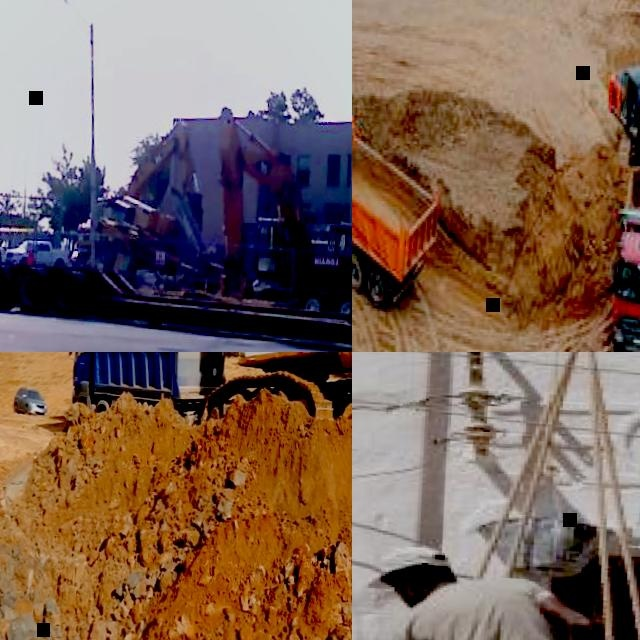Hardhat: (376, 541, 460, 585)
NO-Mask: (396, 581, 424, 607)
NO-Safety Vest: (429, 575, 594, 640)
Person: (352, 538, 640, 640)
Safety Cone: (25, 245, 34, 267)
machinery: (205, 105, 331, 308), (352, 80, 453, 317), (70, 113, 208, 283), (64, 352, 228, 421), (599, 159, 640, 352), (603, 13, 640, 169)
vehicle: (4, 238, 70, 270), (13, 385, 48, 416)
